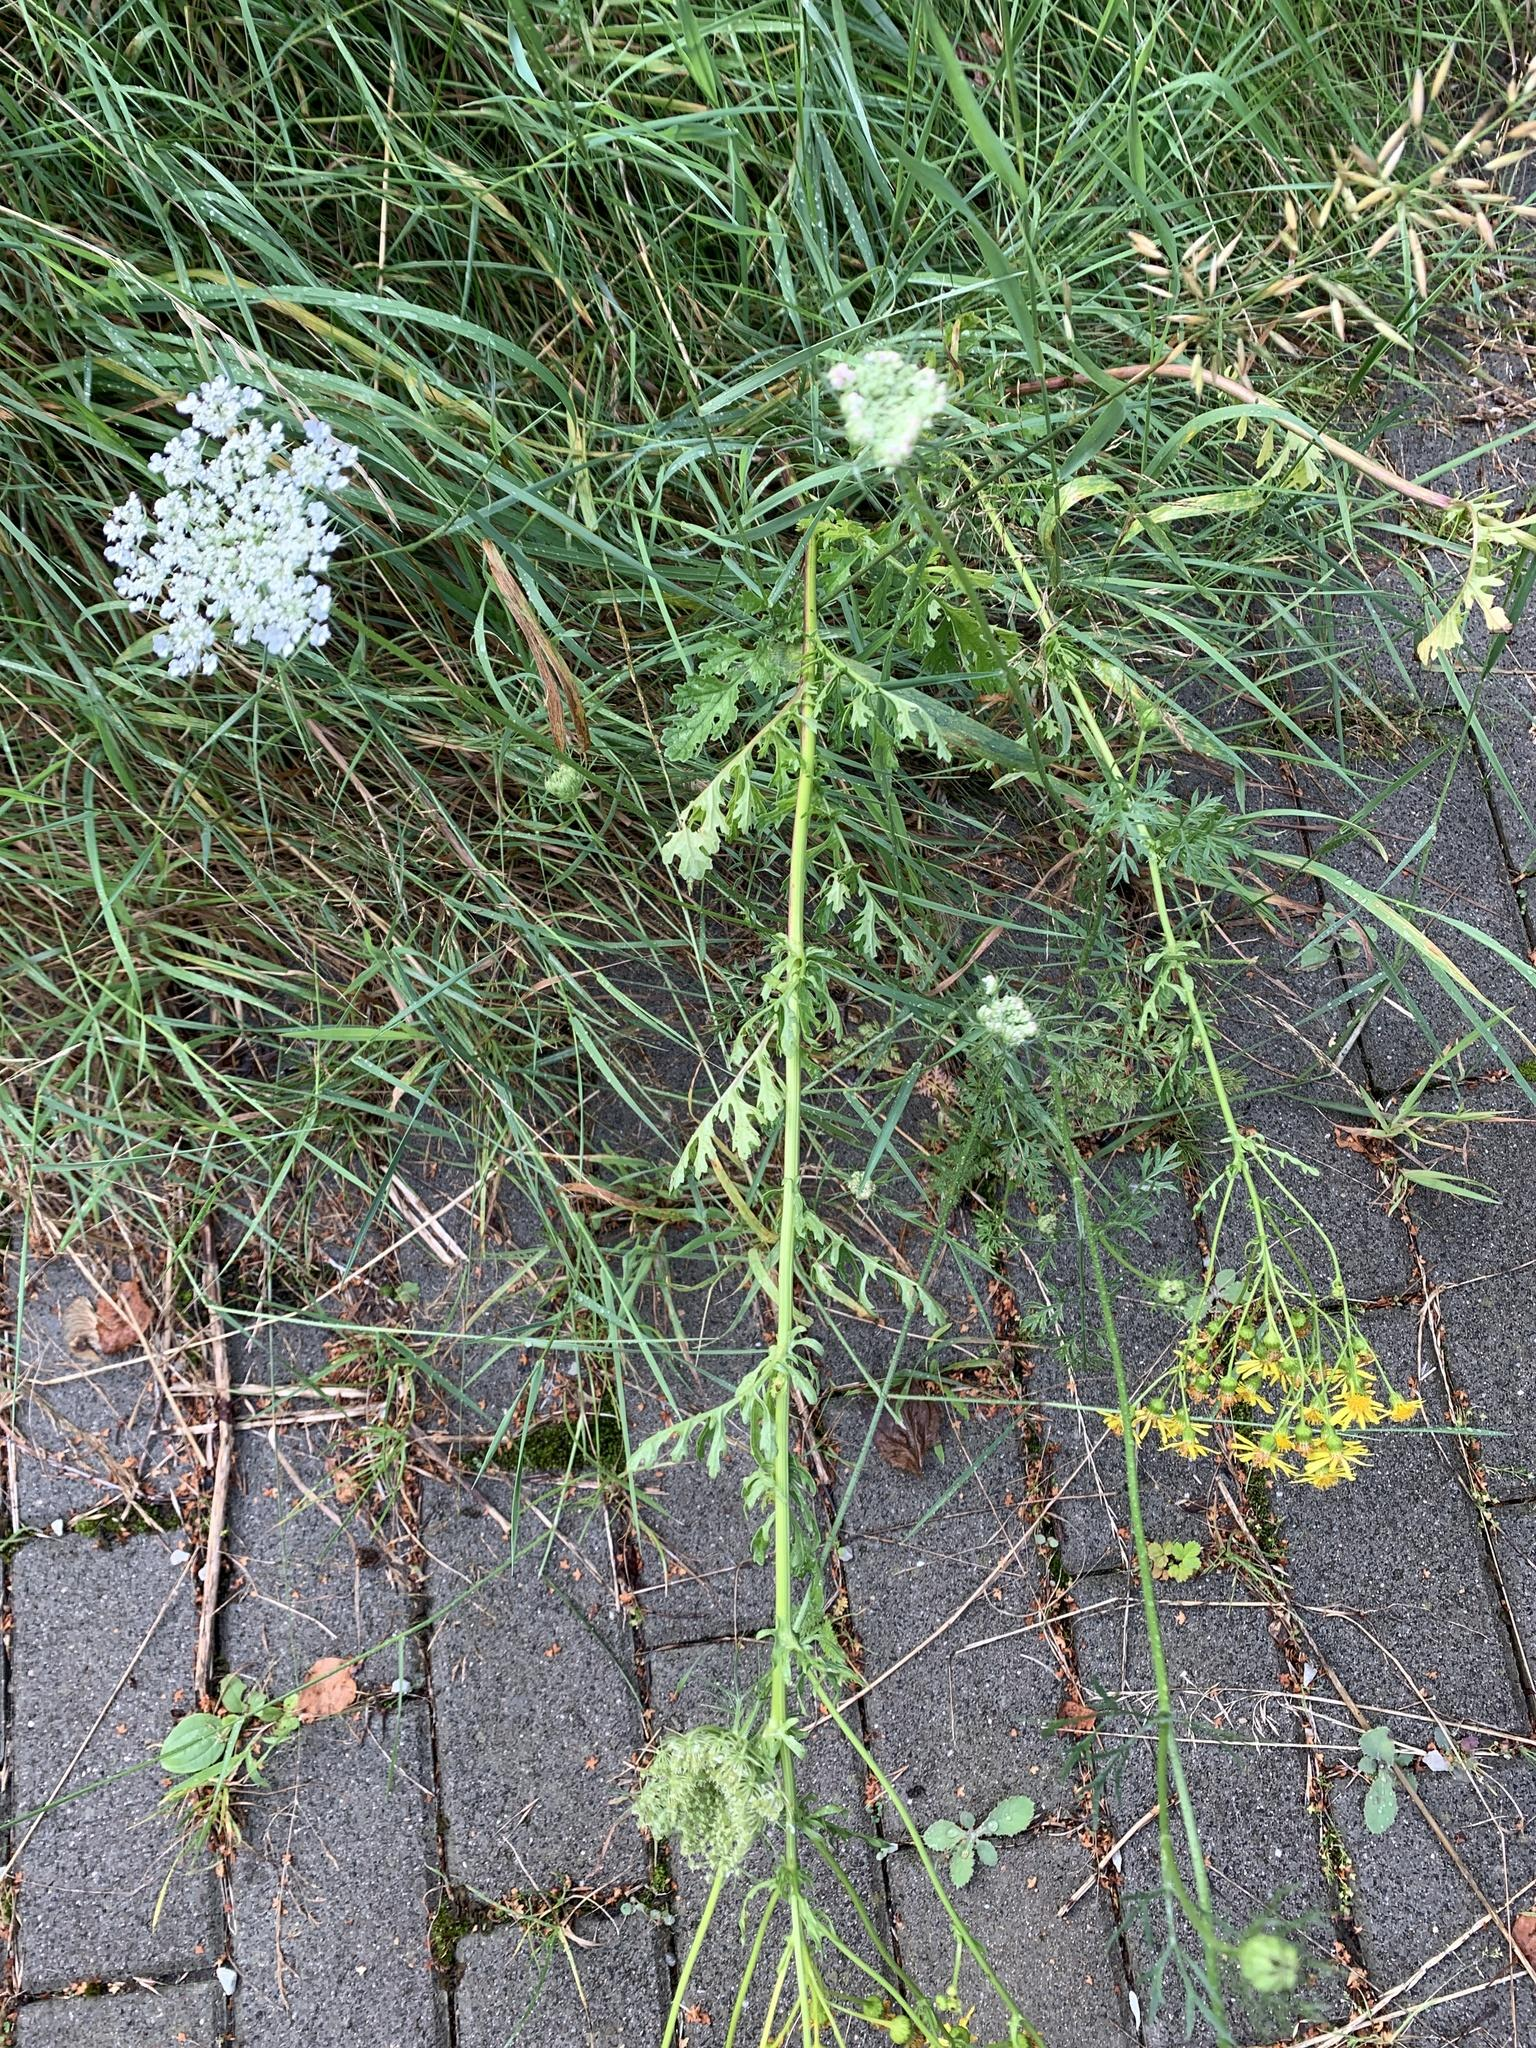Jacobaea vulgaris: (944, 340, 1460, 1659)
